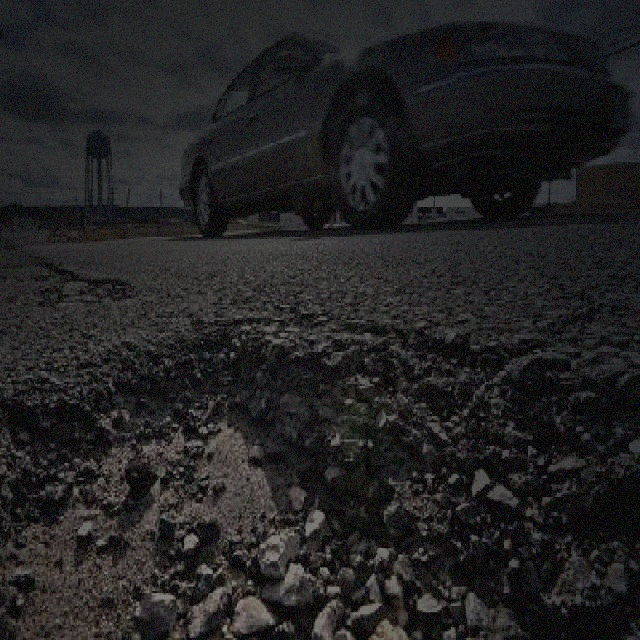pothole: (0, 309, 638, 637), (77, 275, 139, 303)
